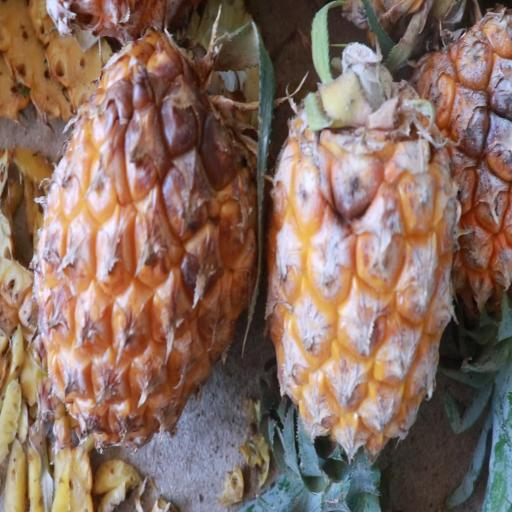Pineapple - v8 v1: (29, 0, 255, 445), (246, 39, 447, 512)
